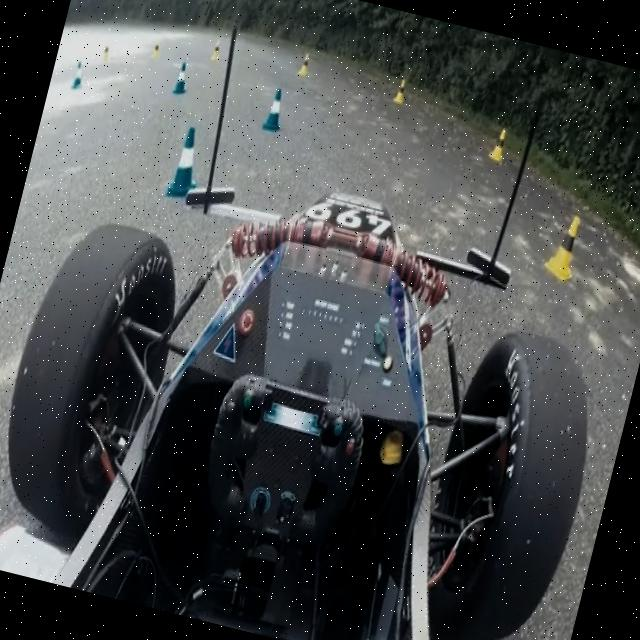blue_cone: (163, 122, 210, 202), (260, 84, 289, 134), (171, 59, 193, 96), (70, 60, 86, 90)
yellow_cone: (542, 210, 586, 284), (488, 126, 510, 164), (393, 76, 409, 105), (298, 52, 314, 78)
